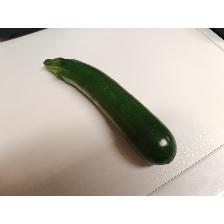Zucchini: (42, 55, 178, 167)
